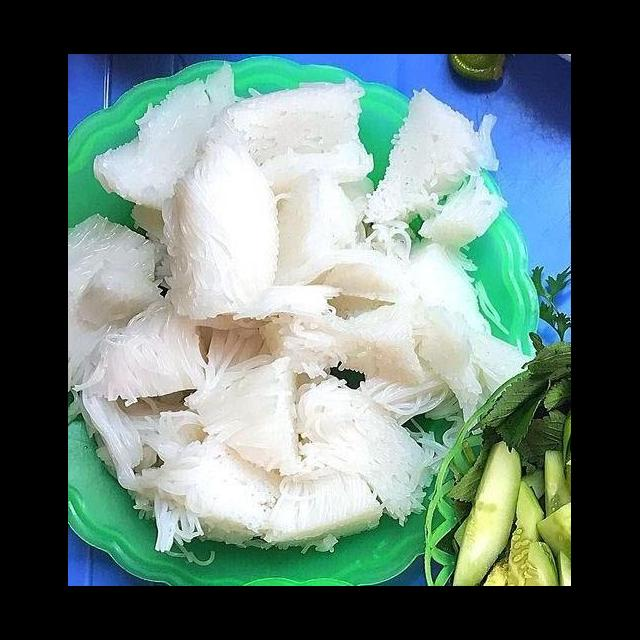bun: (70, 64, 536, 570)
